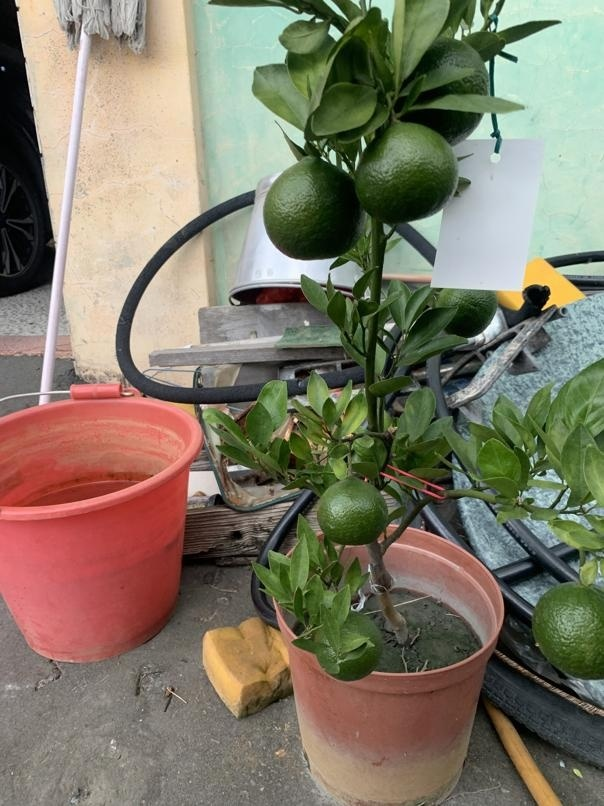Tangerine: (349, 116, 458, 225), (258, 156, 360, 259), (526, 581, 604, 676), (315, 470, 392, 548)
